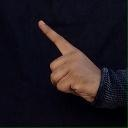hand: (37, 18, 101, 103)
